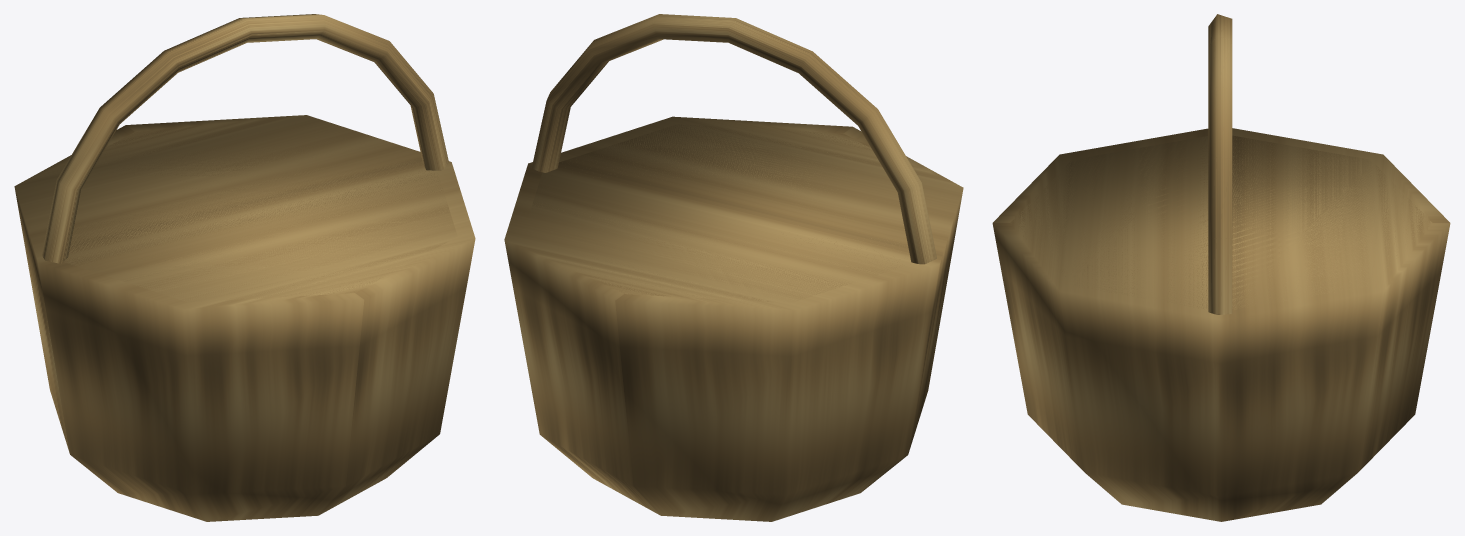
File: Basket_1_LOD1.gltf
3 views of the same model, side by side, from view 1: azimuth 30°, elevation 25°; view 2: azimuth 150°, elevation 25°; view 3: azimuth 270°, elevation 25° (orthographic). The views are drawn at different scales.
Visible parts, largest first — view 1: Basket_1_LOD1; view 2: Basket_1_LOD1; view 3: Basket_1_LOD1.
Part boxes in pixels (box(x1,y1,x2,y2)): Basket_1_LOD1: box(14, 14, 475, 521); Basket_1_LOD1: box(504, 14, 963, 521); Basket_1_LOD1: box(992, 14, 1450, 521).
Bounding box in the file's own units: 0.52 × 0.5343 × 0.52.
Materials: 1 (1 with a texture image).
